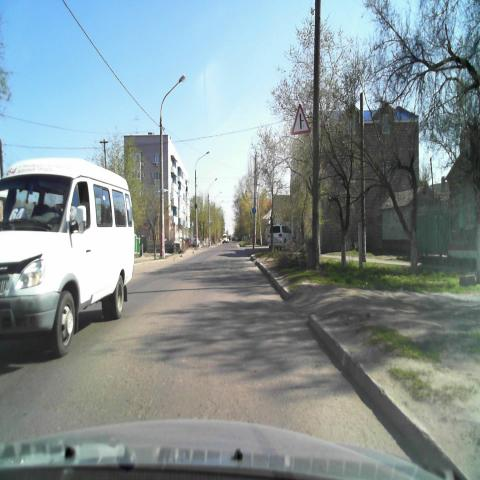2_3_2: (290, 102, 311, 138)
4_1_1: (252, 206, 256, 215)
